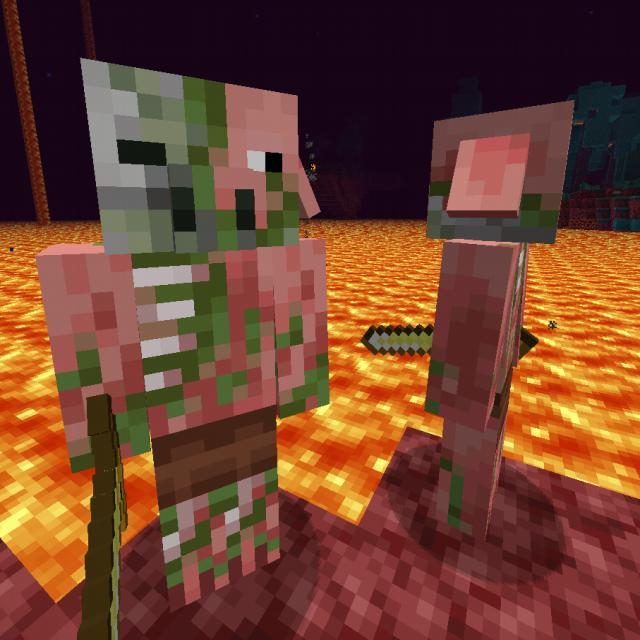Zombified Piglin: (34, 56, 331, 640), (363, 97, 575, 539)
